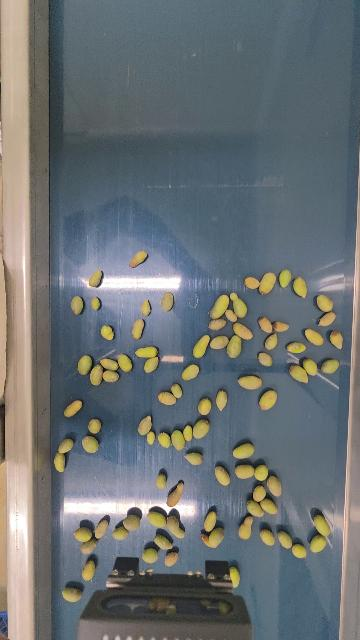Baby Potato: (209, 293, 230, 319), (312, 513, 333, 538), (286, 360, 309, 382), (237, 373, 264, 391), (167, 481, 185, 508), (258, 388, 278, 411), (258, 271, 277, 295), (166, 515, 185, 539), (192, 334, 210, 359), (265, 473, 283, 498), (237, 515, 254, 541), (232, 321, 254, 341), (225, 335, 242, 360), (304, 327, 325, 347), (232, 441, 255, 459), (64, 398, 83, 418), (309, 533, 328, 553), (245, 499, 265, 518), (292, 276, 309, 298), (234, 463, 256, 480), (208, 526, 224, 549), (316, 293, 334, 313), (317, 310, 337, 328), (147, 509, 167, 527), (214, 465, 231, 486), (77, 354, 93, 376), (233, 296, 248, 319), (260, 497, 279, 515), (81, 435, 99, 454), (193, 418, 210, 438), (153, 533, 173, 550), (320, 357, 340, 374), (117, 353, 134, 373), (203, 509, 217, 533), (129, 250, 147, 268), (73, 526, 93, 542), (137, 415, 152, 436), (286, 340, 307, 355), (82, 559, 96, 581), (171, 429, 185, 451), (302, 357, 319, 375), (182, 364, 200, 381), (123, 513, 141, 530), (259, 527, 275, 546), (277, 530, 293, 549), (329, 330, 344, 350), (62, 587, 82, 602), (216, 389, 229, 412), (135, 346, 158, 359), (95, 518, 109, 539), (89, 364, 103, 385), (279, 268, 293, 289), (160, 291, 174, 312), (209, 335, 230, 349), (197, 397, 213, 415), (228, 565, 240, 589), (131, 318, 144, 340), (254, 463, 269, 482), (88, 269, 103, 288), (184, 451, 203, 466), (70, 295, 84, 315), (99, 357, 119, 371), (57, 437, 74, 453), (257, 316, 273, 333), (257, 351, 274, 367), (143, 356, 159, 373), (291, 542, 308, 558), (264, 333, 279, 351), (158, 391, 177, 405), (142, 547, 158, 563), (80, 539, 97, 554), (157, 431, 171, 449), (54, 452, 66, 473), (252, 484, 266, 502), (208, 318, 228, 330), (164, 550, 179, 566), (100, 324, 114, 341), (112, 526, 128, 540), (244, 276, 260, 290), (88, 418, 101, 435), (102, 369, 119, 382), (170, 382, 183, 398), (140, 299, 151, 317), (273, 320, 289, 332), (183, 424, 193, 442), (156, 473, 167, 489), (225, 309, 237, 322), (90, 296, 100, 310), (201, 531, 209, 547), (146, 431, 155, 445)
